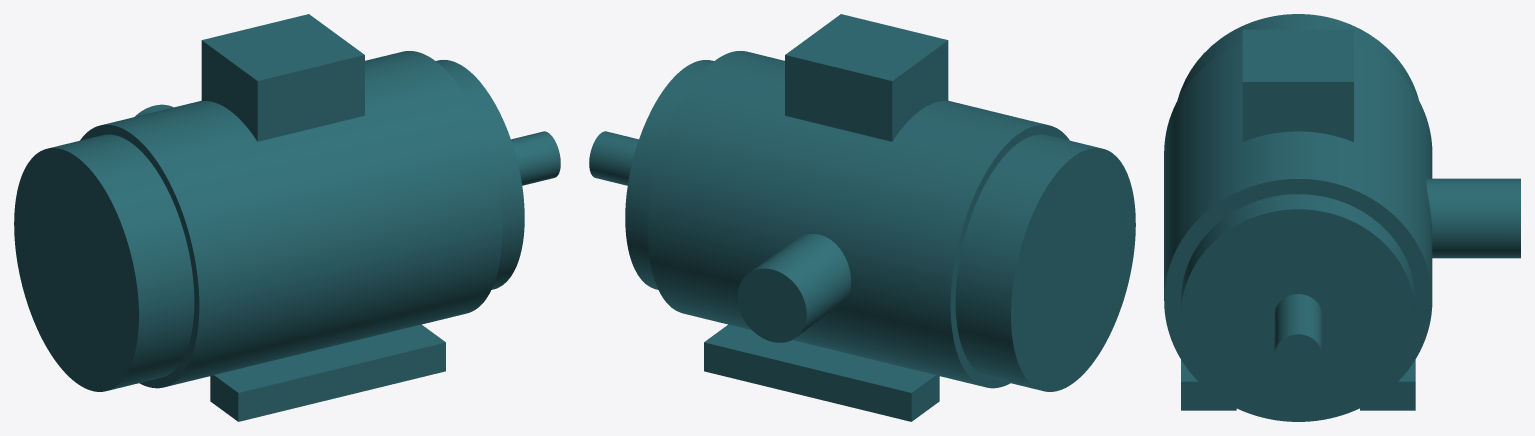
The model's file is MOT-1P-037.glb.
The picture shows the model from 3 angles, left to right: view 1: azimuth 30°, elevation 25°; view 2: azimuth 150°, elevation 25°; view 3: azimuth 270°, elevation 25°; orthographic projection.
Parts seen in each view (by area): view 1: MOT-1P-037; view 2: MOT-1P-037; view 3: MOT-1P-037.
Part boxes in pixels (bbox=[...]): MOT-1P-037: bbox=[14, 14, 560, 421]; MOT-1P-037: bbox=[589, 14, 1135, 421]; MOT-1P-037: bbox=[1164, 14, 1520, 421].
Size of the model in its own units: 0.273 by 0.169 by 0.1795.
